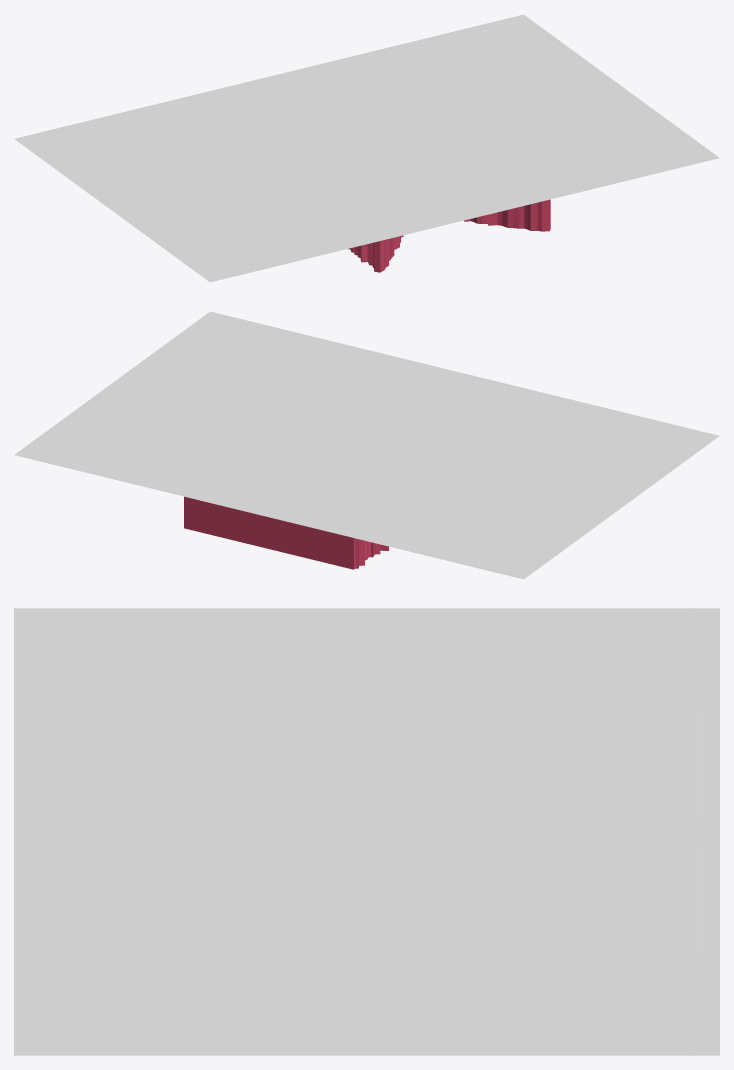
Rendered from ice3.fbx.
3 views of the same model, one above another, from view 1: azimuth 30°, elevation 25°; view 2: azimuth 150°, elevation 25°; view 3: azimuth 270°, elevation 25° (orthographic). The views are drawn at different scales.
Parts seen in each view (by area): view 1: Right, Left, Right.001, Main, Left.001, Main.001; view 2: Right, Left, Main, Right.001, Left.001, Main.001; view 3: Left, Right, Right.001, Main, Left.001, Main.001.
Part boxes in pixels (<box>): Right: <box>320,14,719,198</box>; Left: <box>14,97,415,281</box>; Right.001: <box>18,97,379,282</box>; Main: <box>184,56,550,272</box>; Left.001: <box>355,16,717,231</box>; Main.001: <box>193,56,549,272</box>; Right: <box>14,311,379,496</box>; Left: <box>354,394,719,578</box>; Main: <box>184,353,546,569</box>; Right.001: <box>320,395,717,579</box>; Left.001: <box>17,312,414,495</box>; Main.001: <box>184,355,550,569</box>; Left: <box>14,608,719,830</box>; Right: <box>14,834,719,1055</box>; Right.001: <box>14,608,719,829</box>; Main: <box>14,751,719,909</box>; Left.001: <box>14,833,719,1055</box>; Main.001: <box>14,754,719,909</box>.
Size of the model in its own units: 8401 by 501 by 5600.
